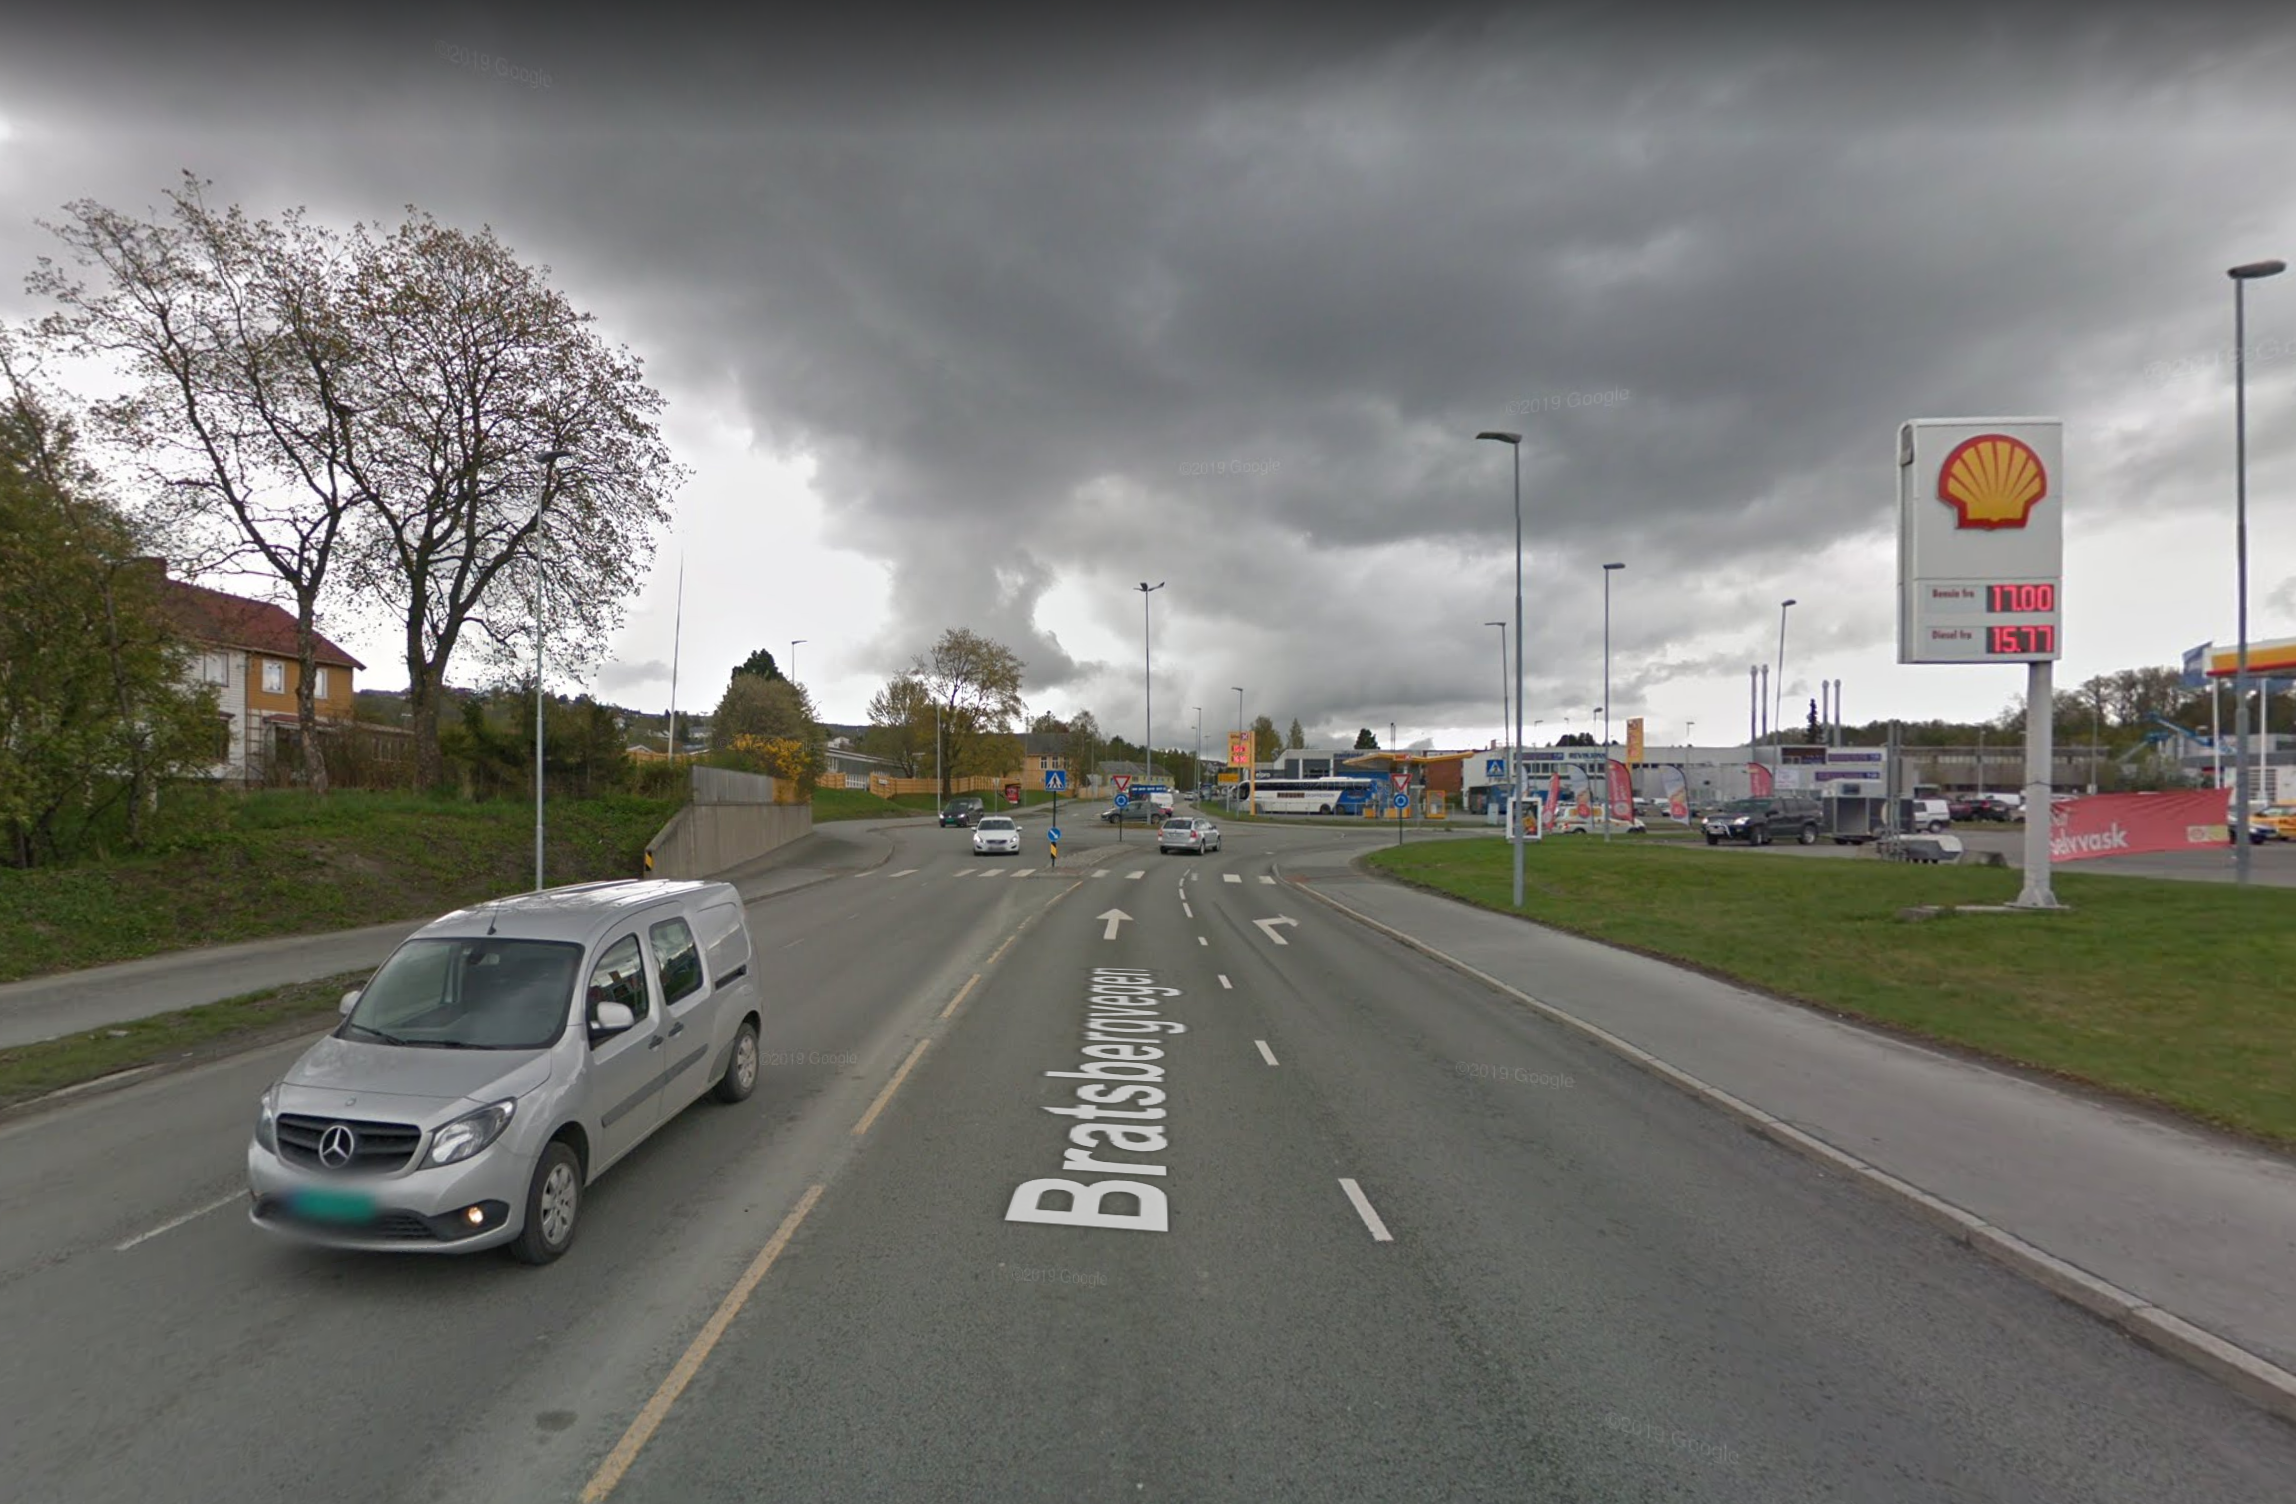fuel: (1898, 415, 2068, 661)
